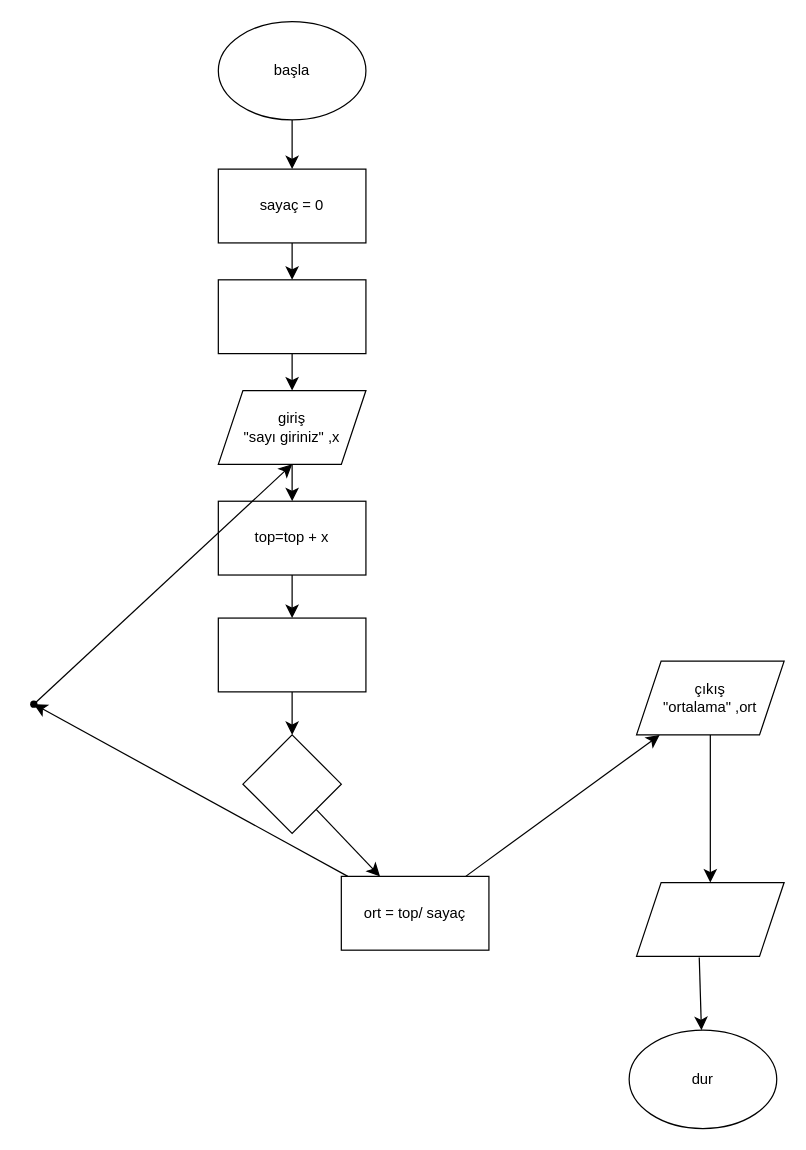
Image size: 806x1150. Some labels were removed from this diagram. Each missing label, with the centre of its shape:
sayaç= sayaç +1: point 291,654
top = 0: point 291,316
çıkış "toplam" , top: point 709,918
